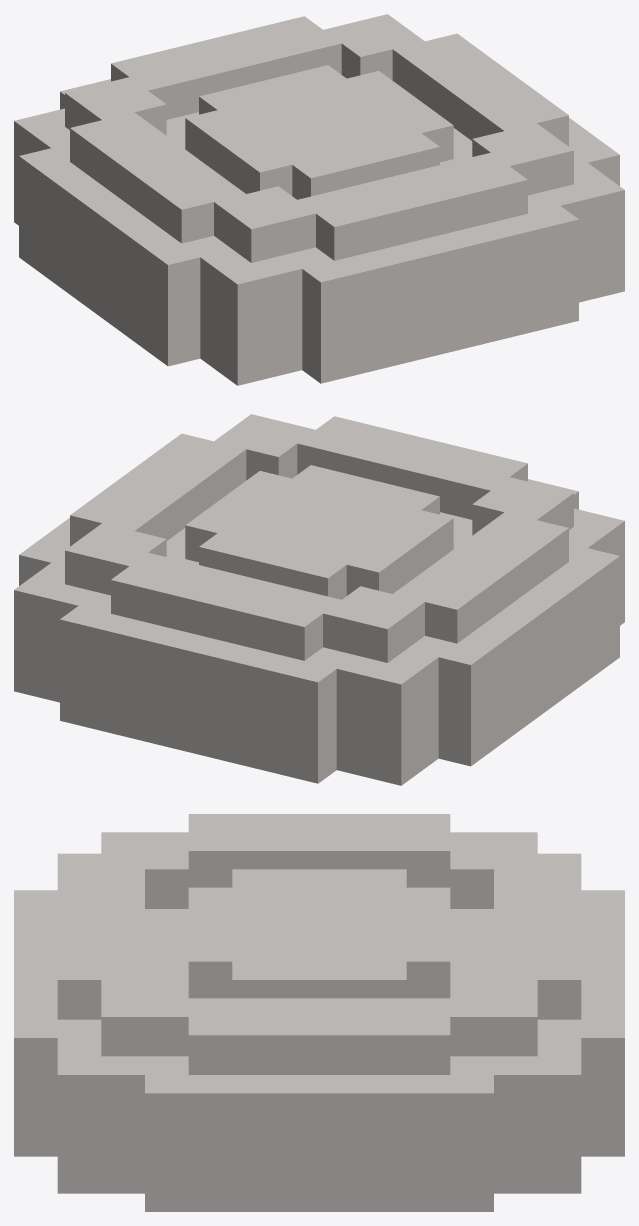
The model's file is man-v4-white.gltf.
The picture shows the model from 3 angles, top to bottom: view 1: azimuth 30°, elevation 25°; view 2: azimuth 150°, elevation 25°; view 3: azimuth 270°, elevation 25°; orthographic projection. The views are drawn at different scales.
Parts seen in each view (by area): view 1: Untitled; view 2: Untitled; view 3: Untitled.
Boxes of the visible parts, left/top/right/bottom form: Untitled: left=14, top=14, right=624, bottom=385; Untitled: left=14, top=414, right=624, bottom=785; Untitled: left=14, top=814, right=624, bottom=1211.
Bounding box in the file's own units: 1.4 × 0.4 × 1.4.
1 material, 1 textured.
